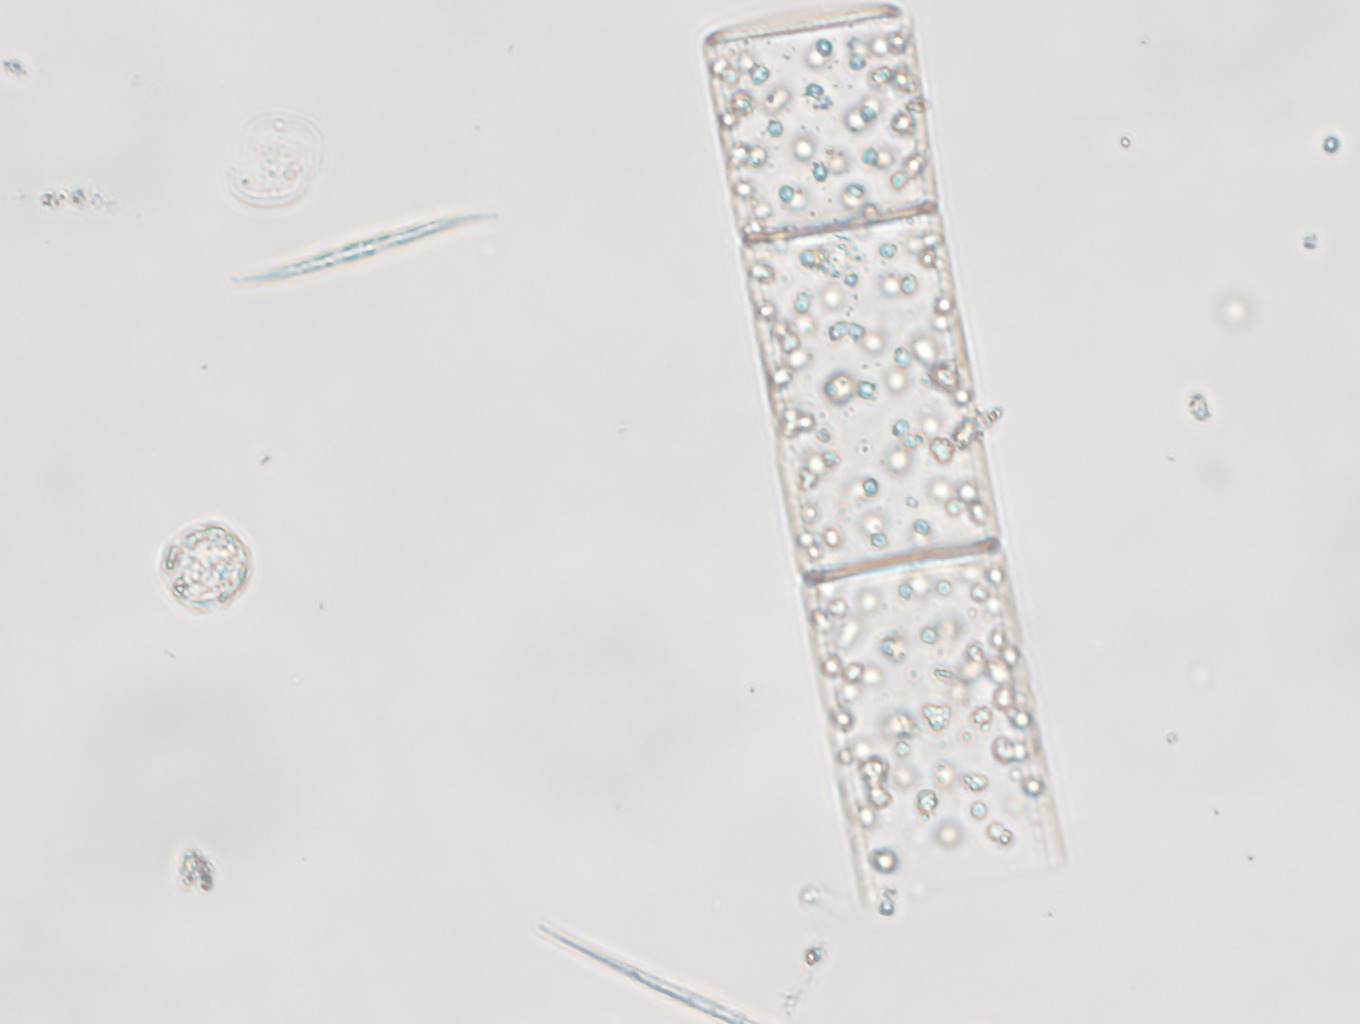guinardia flaccida: (700, 1, 1072, 918)
pleurosigma pelagicum: (229, 208, 502, 283)
